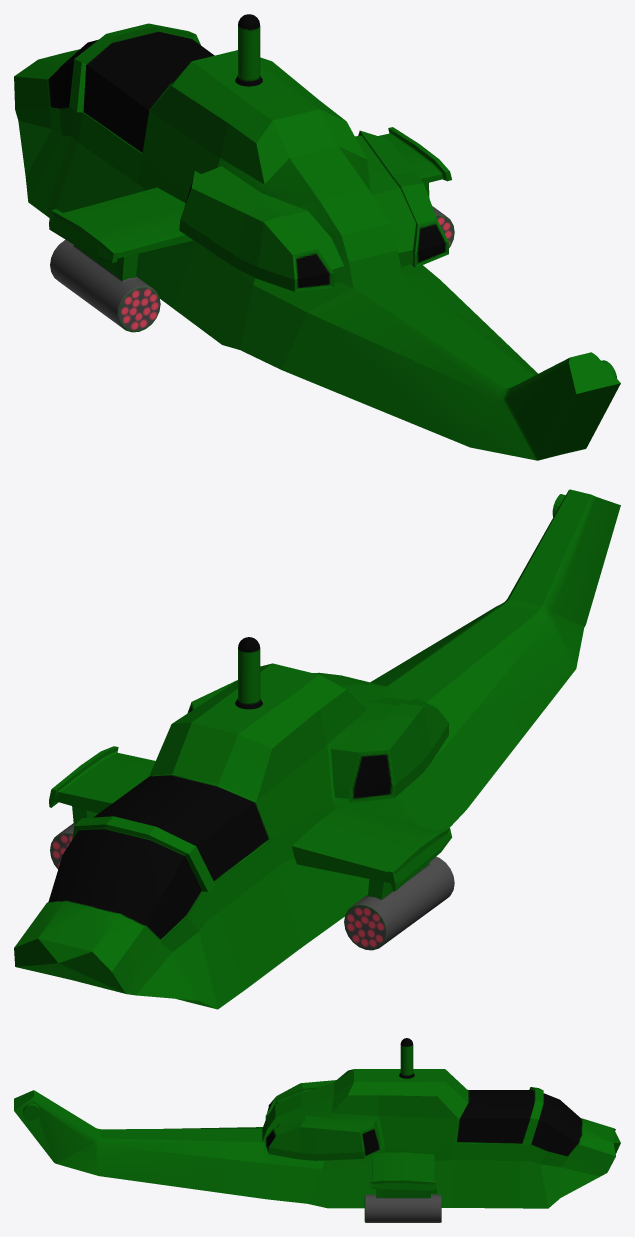
File: Helikopter_1_Ana_Model.fbx
3 renders of one model, top to bottom at view 1: azimuth 30°, elevation 25°; view 2: azimuth 150°, elevation 25°; view 3: azimuth 270°, elevation 25°, orthographic. The views are drawn at different scales.
Visible parts, largest first — view 1: pCylinder24; view 2: pCylinder24; view 3: pCylinder24.
Part boxes in pixels (bbox=[...]): pCylinder24: bbox=[14, 14, 620, 460]; pCylinder24: bbox=[14, 489, 620, 1009]; pCylinder24: bbox=[14, 1038, 620, 1222].
Size of the model in its own units: 7.45 by 5.26 by 20.11.
1 material, 1 textured.
